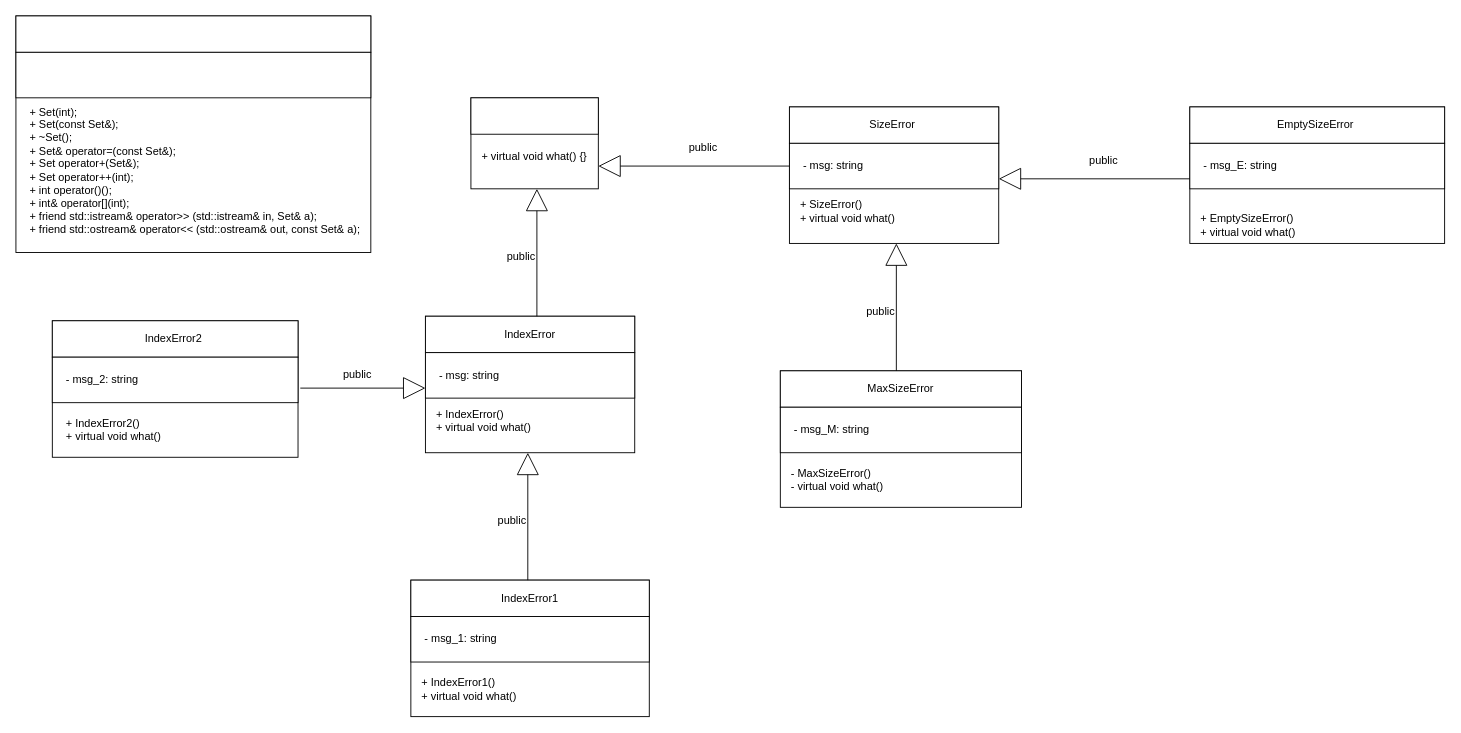
The diagram is 1461 pixels wide and 733 high, and some of its shapes have lost their labels. The shapes that lost their labels are listed below. From the top down, each one's centre as x and y in pixels, then its label:
At [193,33]: "Set".
At [193,74]: "- size: int - data: int*".
At [534,115]: "Error".
